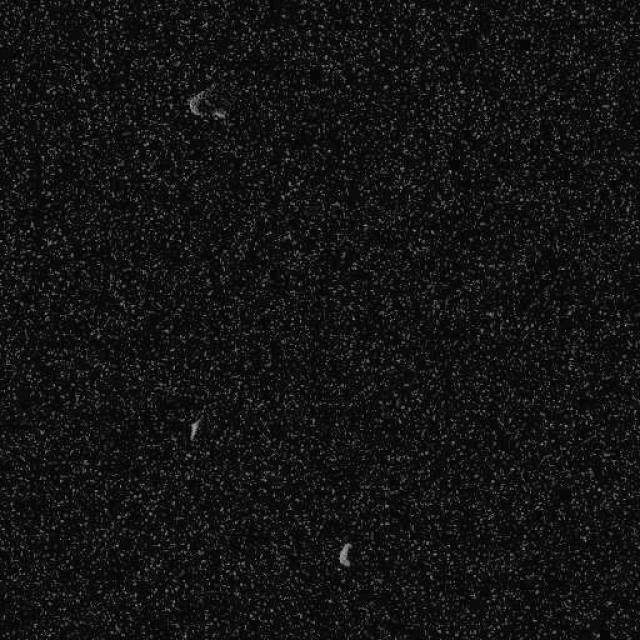D2: (186, 86, 229, 124), (337, 542, 352, 568), (188, 414, 202, 441)
